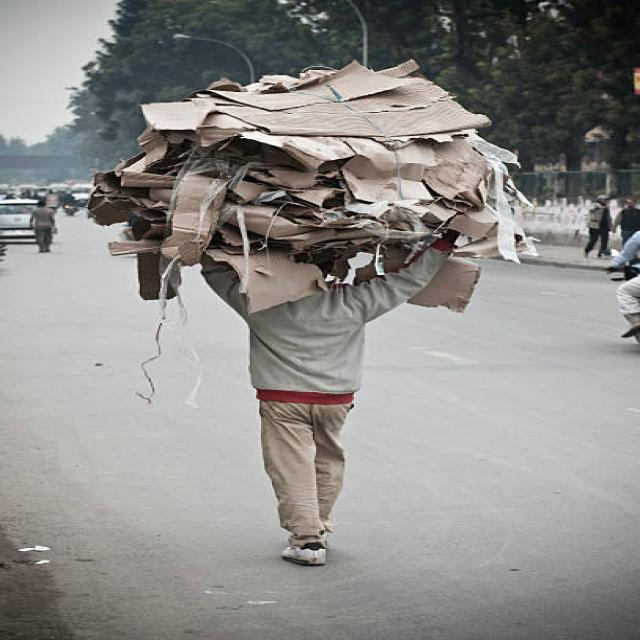cardboard: (113, 65, 502, 257)
